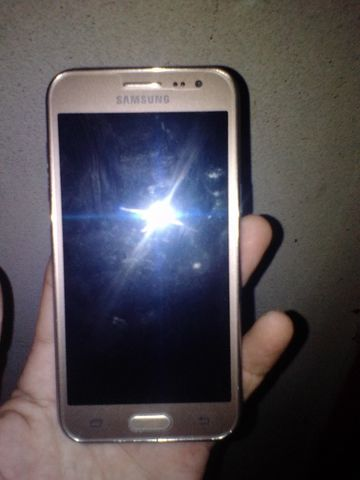phone: (40, 62, 251, 447)
